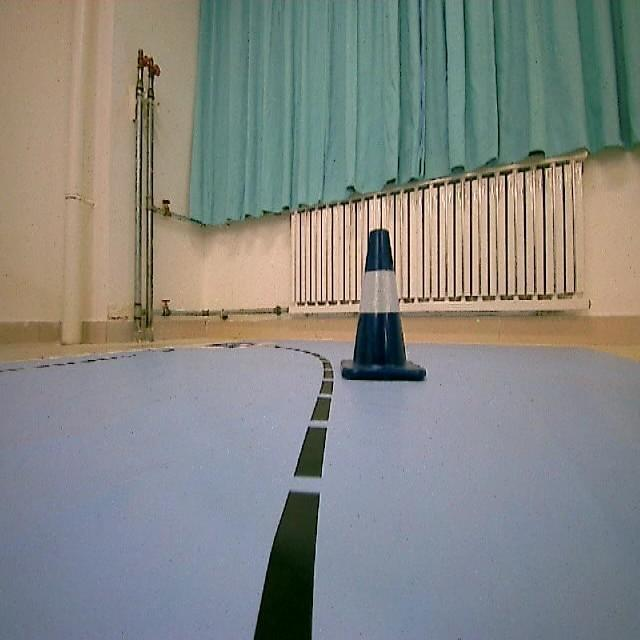obstacle: (348, 226, 418, 386)
